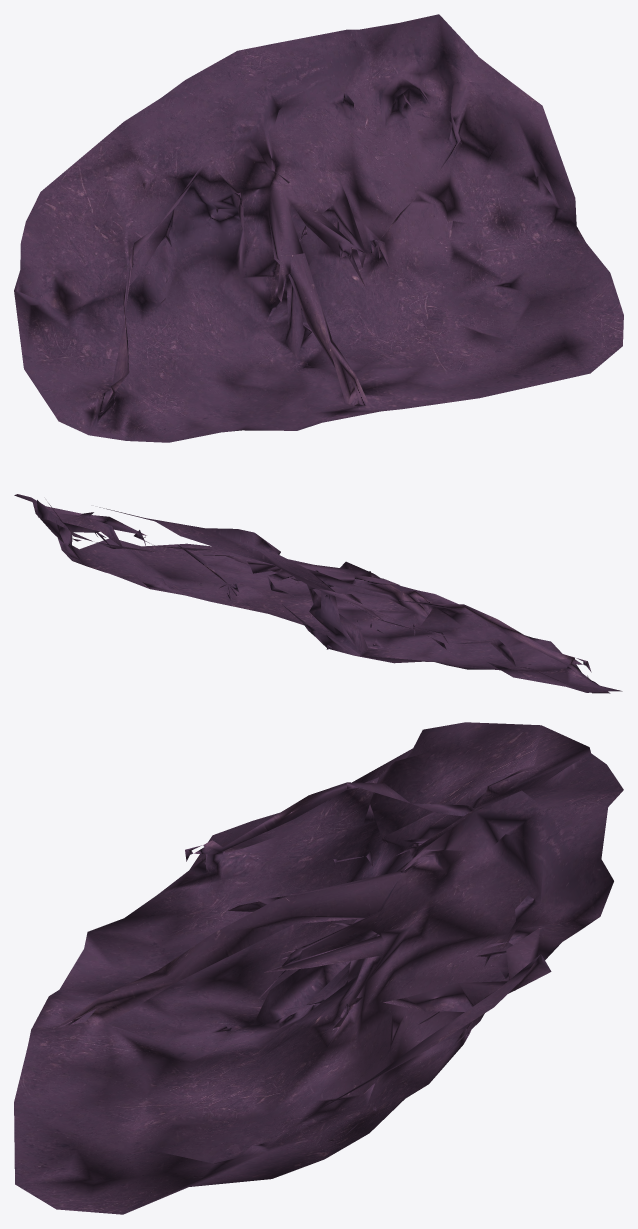
Rendered from roots-far.glb.
3 views of the same model, one above another, from view 1: azimuth 30°, elevation 25°; view 2: azimuth 150°, elevation 25°; view 3: azimuth 270°, elevation 25° (orthographic). The views are drawn at different scales.
Parts seen in each view (by area): view 1: root_cluster_01; view 2: root_cluster_01; view 3: root_cluster_01.
Part boxes in pixels (box(x1,y1,x2,y2)): root_cluster_01: box(14, 14, 623, 442); root_cluster_01: box(14, 494, 622, 693); root_cluster_01: box(14, 722, 623, 1214).
Size of the model in its own units: 8.13 by 2.98 by 5.32.
1 material, 1 textured.
